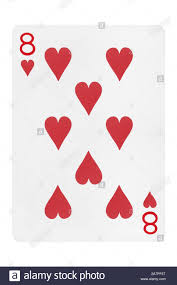eight of hearts: (10, 22, 163, 242)
